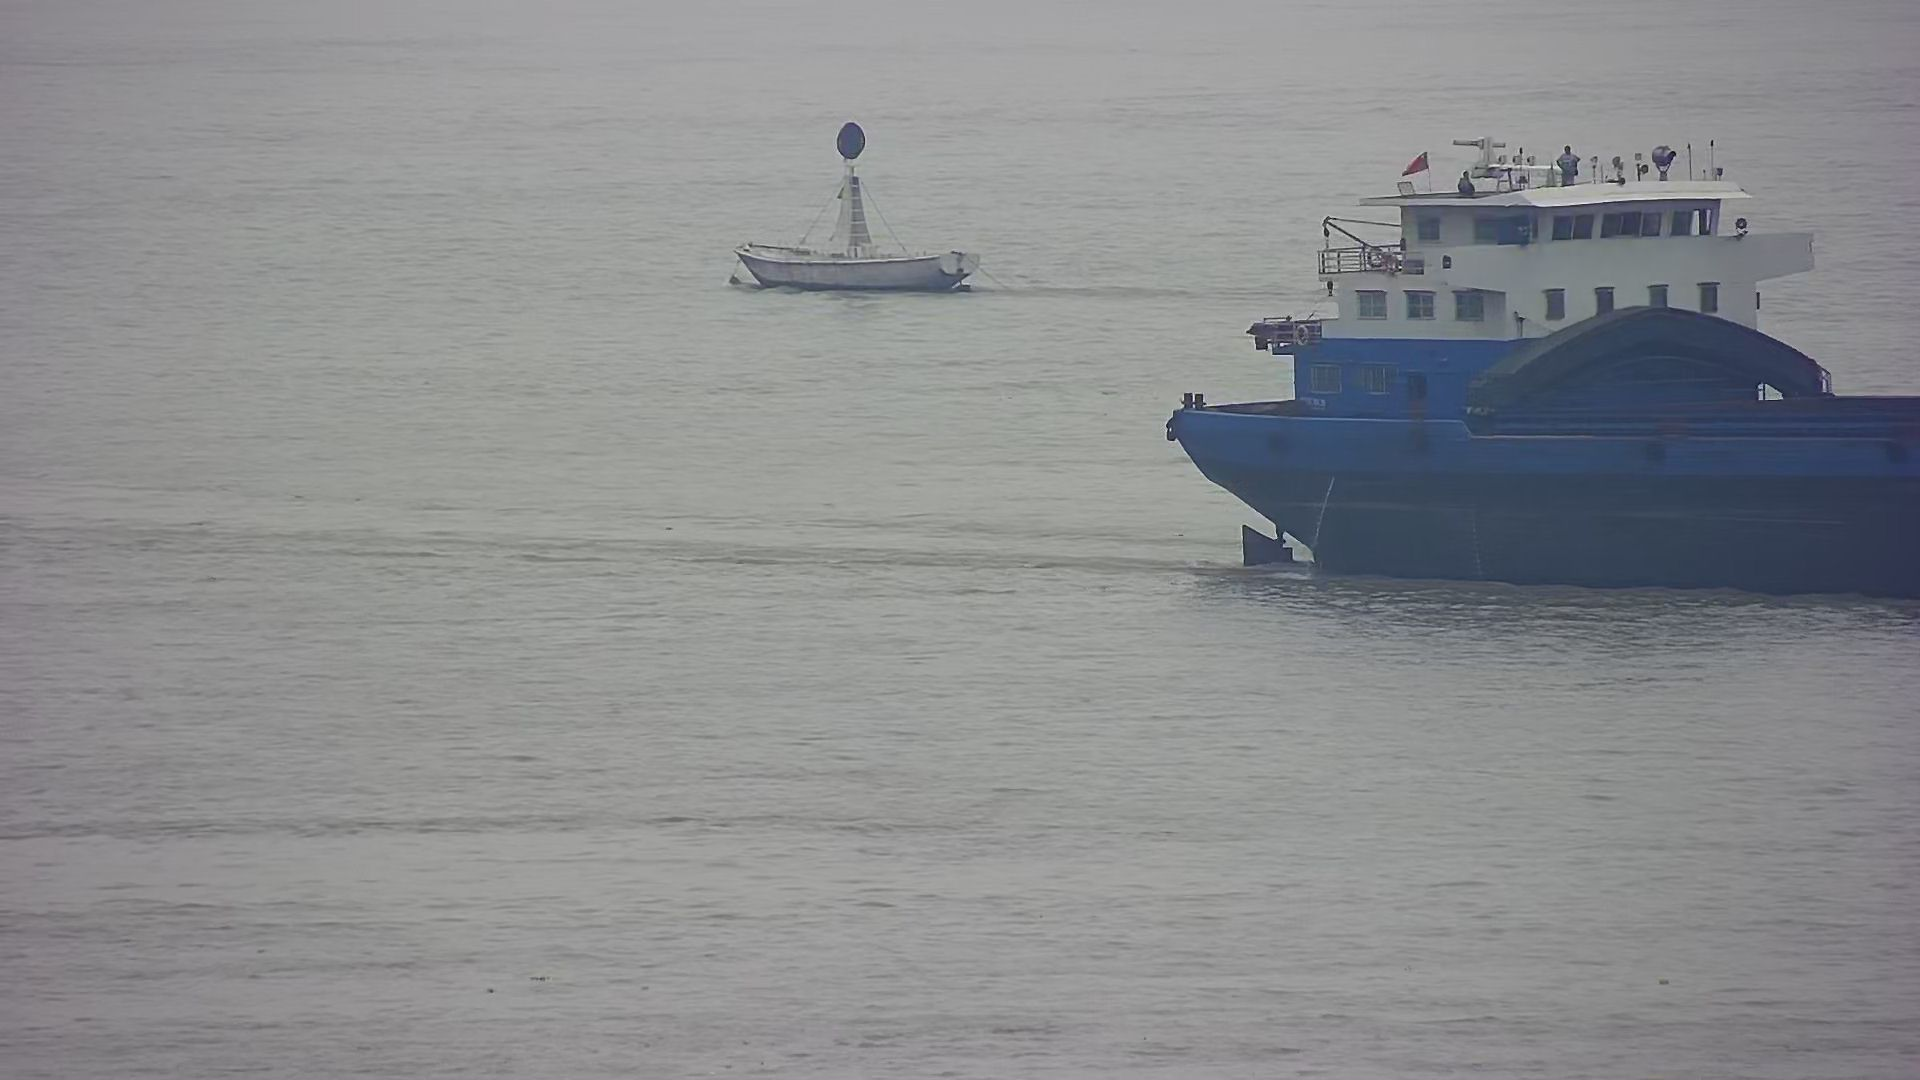boat: (721, 117, 981, 287)
ship: (1158, 138, 1920, 595)
